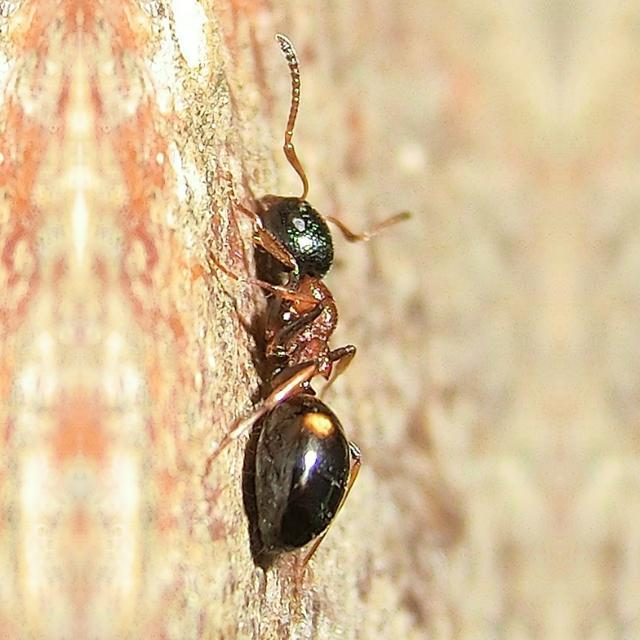Dolichoderus: (202, 124, 398, 592)
